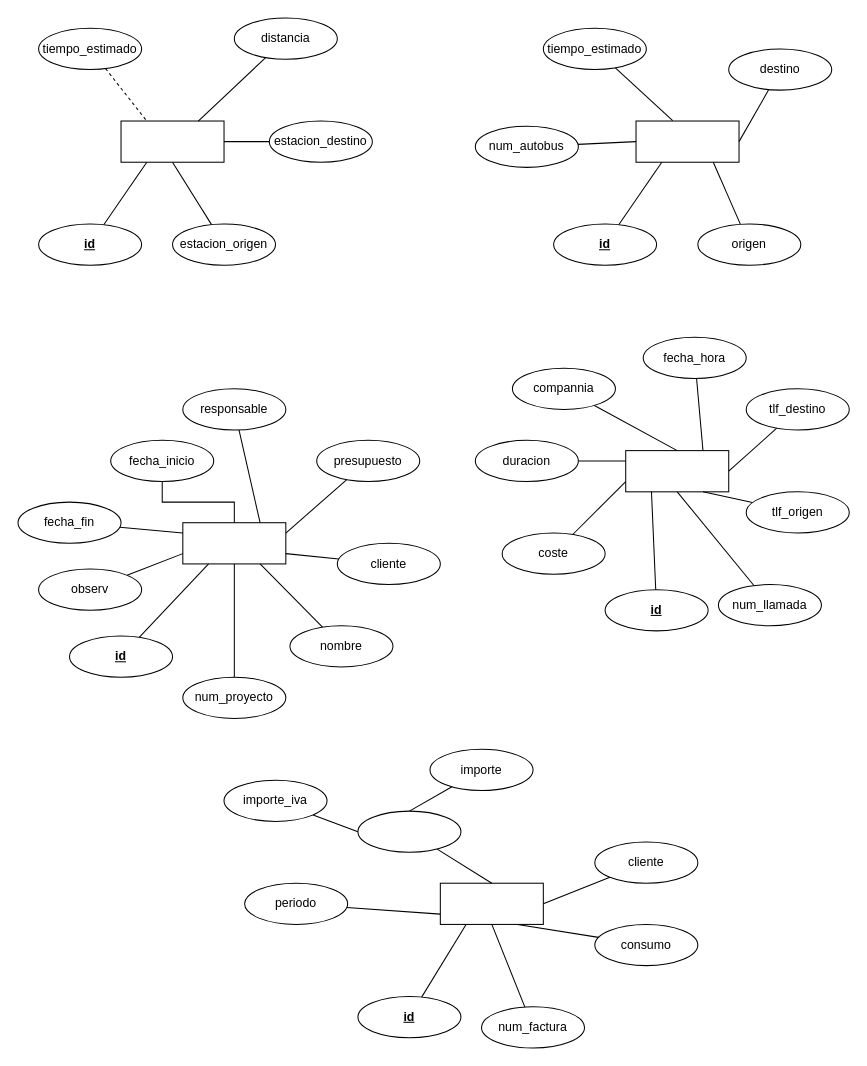
Some shapes in this 867 by 1066 pixel diagram are drawn without their labels. Each missing label, with the centre of its shape:
"FACTURA" belongs at (491,903).
"importe_total" belongs at (409,831).
"LLAMADA" belongs at (677,471).
"PROYECTO" belongs at (234,543).
"RECORRIDO" belongs at (172,141).
"TRAYECTO" belongs at (687,141).
